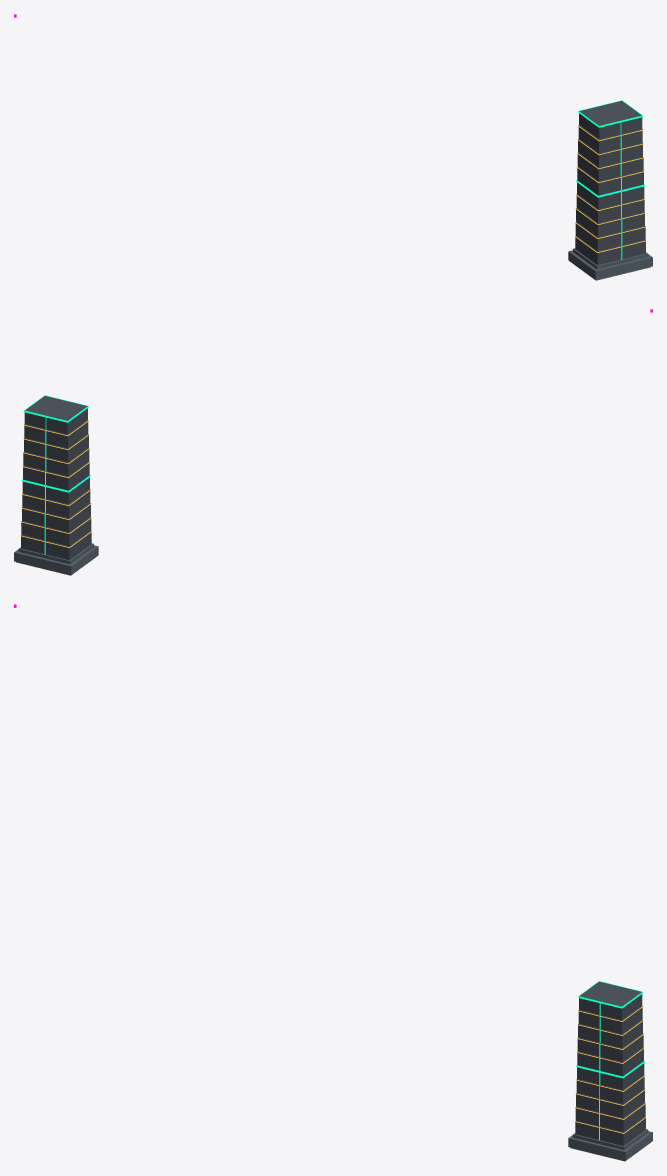
The model's file is stage 7.glb.
3 views of the same model, one above another, from view 1: azimuth 30°, elevation 25°; view 2: azimuth 150°, elevation 25°; view 3: azimuth 330°, elevation 25° (orthographic).
Parts seen in each view (by area): view 1: JadeTowerMass, TowerPodium, GoldFacadeBands, JadeSkyLobbies; view 2: JadeTowerMass, TowerPodium, GoldFacadeBands, JadeSkyLobbies; view 3: JadeTowerMass, TowerPodium, GoldFacadeBands.
Boxes of the visible parts, x1,y1,x2,y2 form: JadeTowerMass: [575, 101, 645, 265]; TowerPodium: [568, 248, 652, 280]; GoldFacadeBands: [574, 125, 646, 252]; JadeSkyLobbies: [576, 100, 644, 197]; JadeTowerMass: [21, 396, 91, 560]; TowerPodium: [14, 543, 98, 575]; GoldFacadeBands: [20, 420, 92, 547]; JadeSkyLobbies: [22, 395, 90, 492]; JadeTowerMass: [575, 981, 645, 1145]; TowerPodium: [568, 1129, 652, 1160]; GoldFacadeBands: [574, 1006, 646, 1133].
Bounding box in the file's own units: 125 × 75.69 × 9.5.
